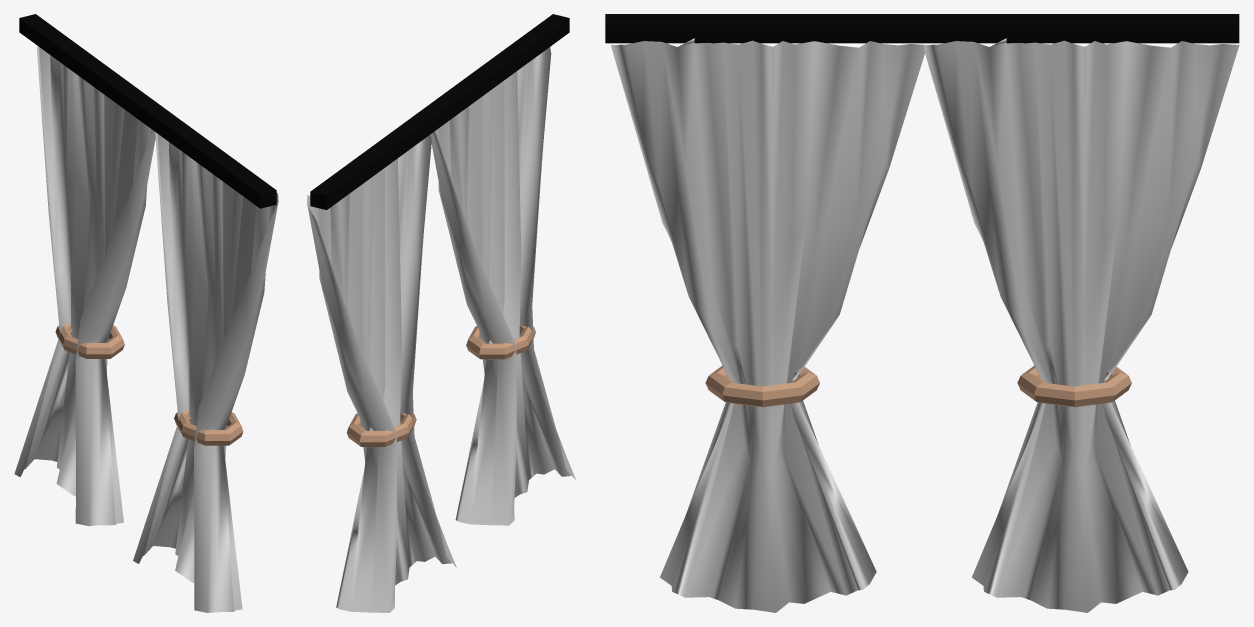
Rendered from CortinaDob.fbx.
3 renders of one model, left to right at view 1: azimuth 30°, elevation 25°; view 2: azimuth 150°, elevation 25°; view 3: azimuth 270°, elevation 25°, orthographic. The views are drawn at different scales.
Parts seen in each view (by area): view 1: CortinaSen; view 2: CortinaSen; view 3: CortinaSen.
Part boxes in pixels (x1,y1,x2,y2): CortinaSen: (14, 14, 278, 612); CortinaSen: (307, 14, 575, 612); CortinaSen: (605, 14, 1239, 612).
Bounding box in the file's own units: 68.21 × 406 × 396.
